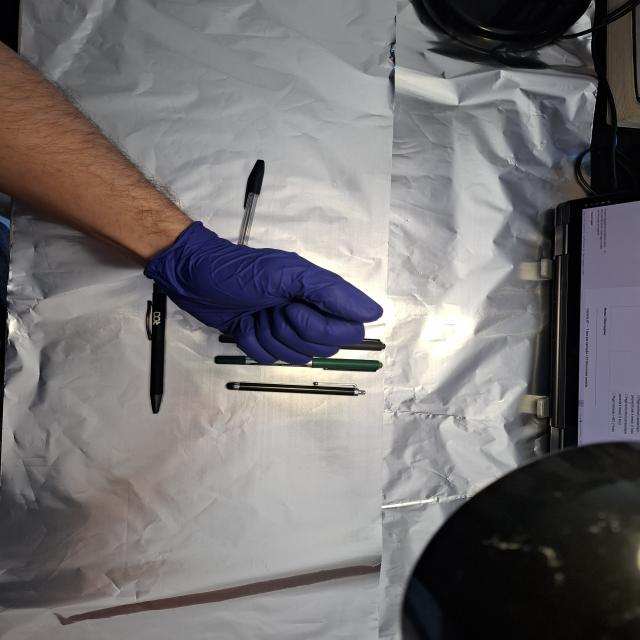glove_on: (142, 221, 388, 369)
